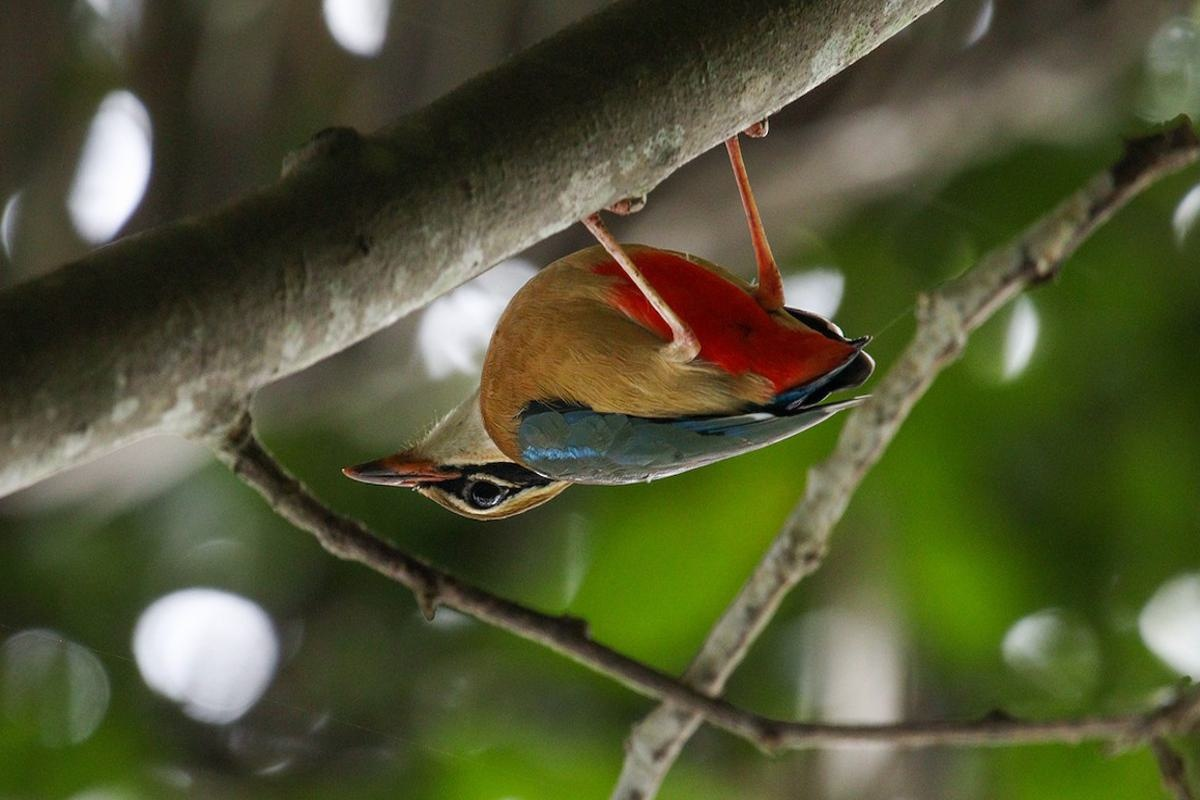pitta: (326, 107, 856, 540)
